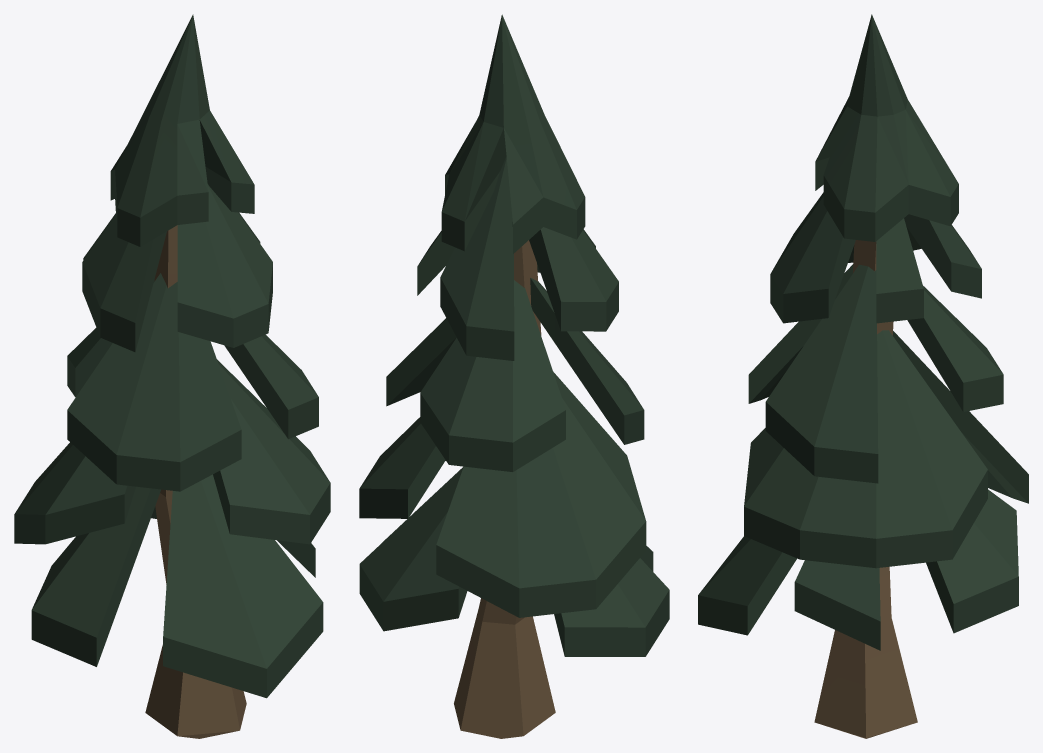
Rendered from Arbol_01.glb.
The picture shows the model from 3 angles, left to right: view 1: azimuth 30°, elevation 25°; view 2: azimuth 150°, elevation 25°; view 3: azimuth 270°, elevation 25°; orthographic projection.
Parts seen in each view (by area): view 1: SM_Env_Tree_Pine_02_2; view 2: SM_Env_Tree_Pine_02_2; view 3: SM_Env_Tree_Pine_02_2.
Part boxes in pixels (x1=…): SM_Env_Tree_Pine_02_2: x1=14, y1=14, x2=330, y2=738; SM_Env_Tree_Pine_02_2: x1=359, y1=14, x2=669, y2=738; SM_Env_Tree_Pine_02_2: x1=698, y1=14, x2=1028, y2=738.
Bounding box in the file's own units: 1.39 × 3.55 × 1.47.
Materials: 1 (1 with a texture image).
